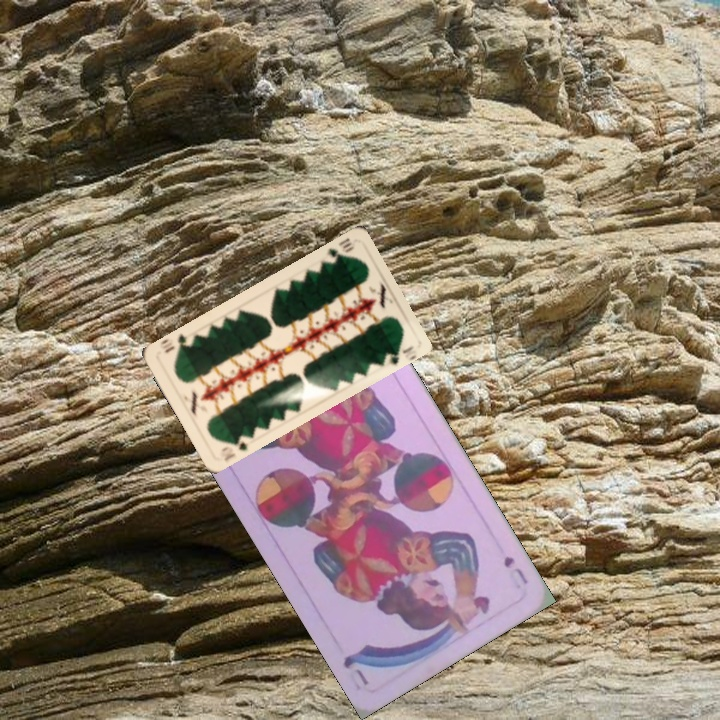G10: (320, 234, 357, 266), (217, 437, 250, 464)
SU: (499, 552, 531, 587)
